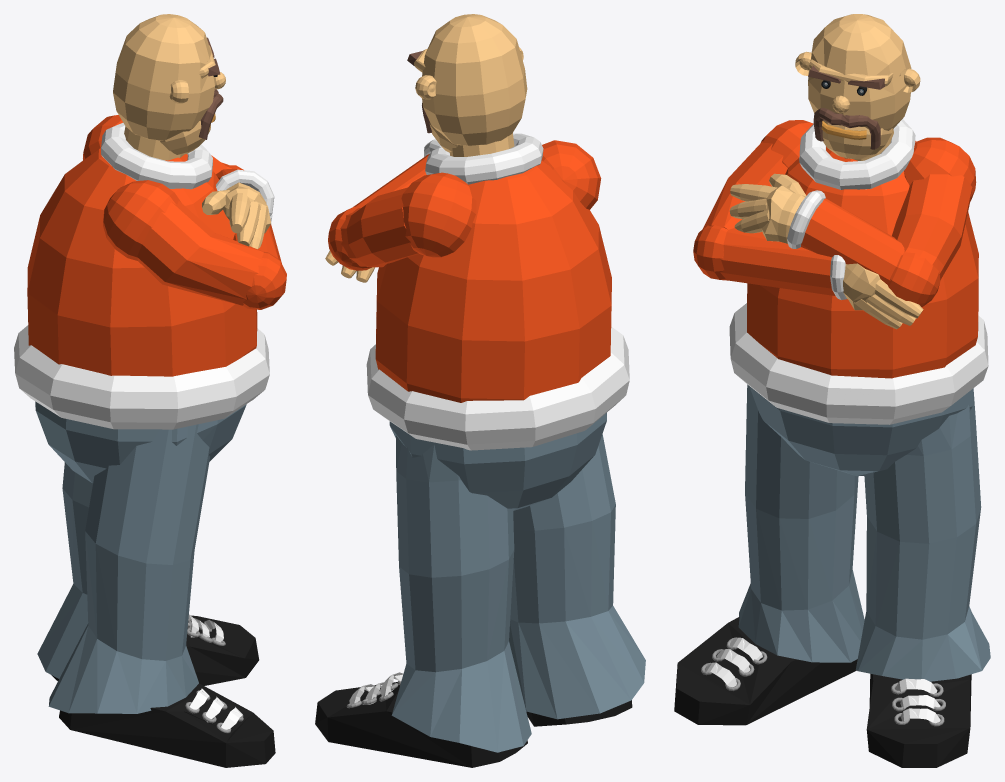
The model's file is scene_QhMtgl4ghE.glb.
3 views of the same model, side by side, from view 1: azimuth 30°, elevation 25°; view 2: azimuth 150°, elevation 25°; view 3: azimuth 270°, elevation 25° (orthographic). The views are drawn at different scales.
Parts seen in each view (by area): view 1: group884517287; view 2: group884517287; view 3: group884517287.
Boxes of the visible parts, x1=… form: group884517287: x1=14, y1=14, x2=286, y2=767; group884517287: x1=315, y1=14, x2=645, y2=767; group884517287: x1=674, y1=14, x2=990, y2=767.
Size of the model in its own units: 1.1 by 2.87 by 1.19.
